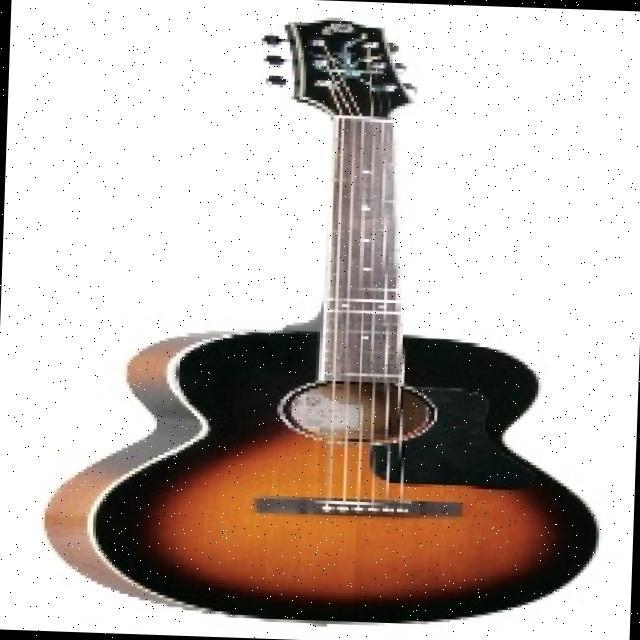acousticguitar: (45, 20, 596, 620)
